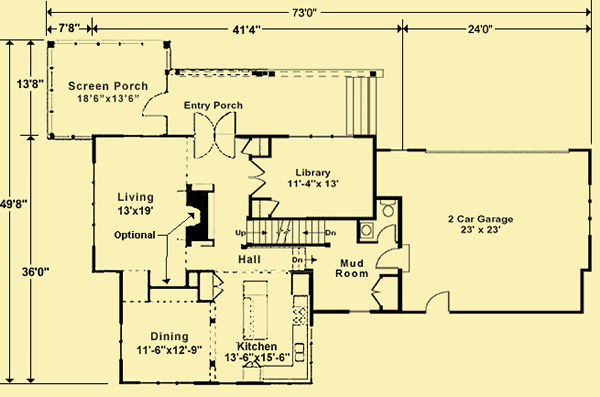door: (188, 133, 238, 160), (191, 110, 241, 135), (418, 287, 454, 315), (141, 91, 170, 122), (248, 160, 269, 194), (371, 247, 399, 271), (374, 222, 400, 244), (369, 276, 385, 306)
large_sink: (377, 200, 399, 219)
stairs: (236, 219, 333, 245), (345, 76, 378, 135)
